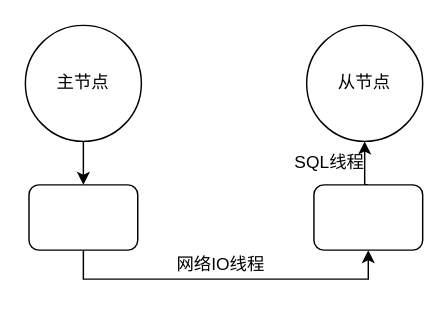
Some shapes in this 448 by 316 pixel diagram are drawn without their labels. Here are the shapes that lost their labels. From the top down, the centre of each, then its label:
At point (83, 216): "binlog".
At point (367, 216): "relay log".
